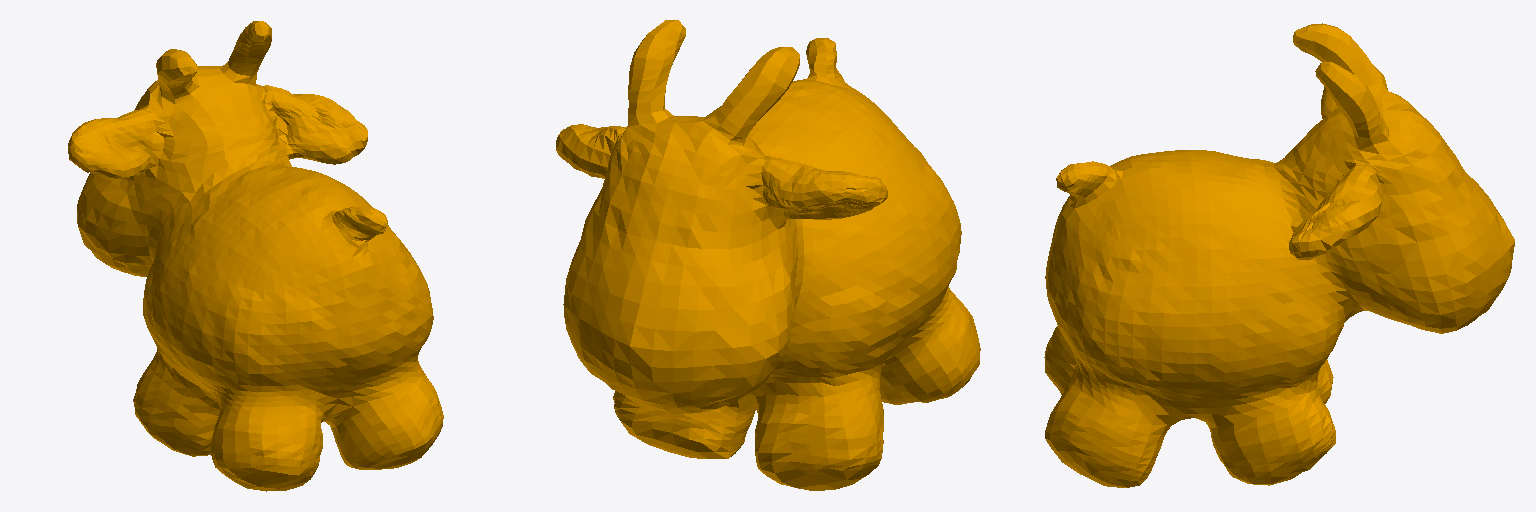
URDF robot description (mesh_object):
<?xml version="1.0" ?>
<robot name="mesh_object">
  <link name="base">
    <visual>
      <geometry>
        <mesh filename="ram_(animal)_3.obj" scale="1 1 1"/>
      </geometry>
    </visual>
    <collision>
      <geometry>
        <mesh filename="ram_(animal)_3.obj" scale="1 1 1"/>
      </geometry>
    </collision>
    <inertial>
      <origin xyz="-0.001955 0.007998 0.072484" rpy="0 0 0"/>
      <mass value="0.5"/>
      <inertia ixx="0.01" iyy="0.01" izz="0.01" ixy="0" ixz="0" iyz="0"/>
    </inertial>
  </link>
</robot>

--- Facts derived from the render (not from the file) ---
Views: 3 orthographic renders of the robot side by side, from view 1: azimuth 30°, elevation 25°; view 2: azimuth 150°, elevation 25°; view 3: azimuth 270°, elevation 25°.
Model mesh_object with 1 links and 0 joints (none), rooted at base, posed all joints at 0.
Links seen in each view (by area): view 1: base; view 2: base; view 3: base.
Link boxes in pixels (bbox=[...]): base: bbox=[68, 21, 443, 491]; base: bbox=[556, 20, 980, 490]; base: bbox=[1044, 23, 1514, 487].
Bounding box of the posed robot: 0.111 × 0.1509 × 0.145 m (x, y, z).
1 mesh visuals loaded from 1 distinct referenced files (1 OBJ).
